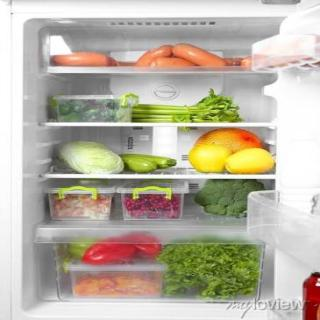fruit: (188, 143, 230, 173), (229, 149, 276, 174)
